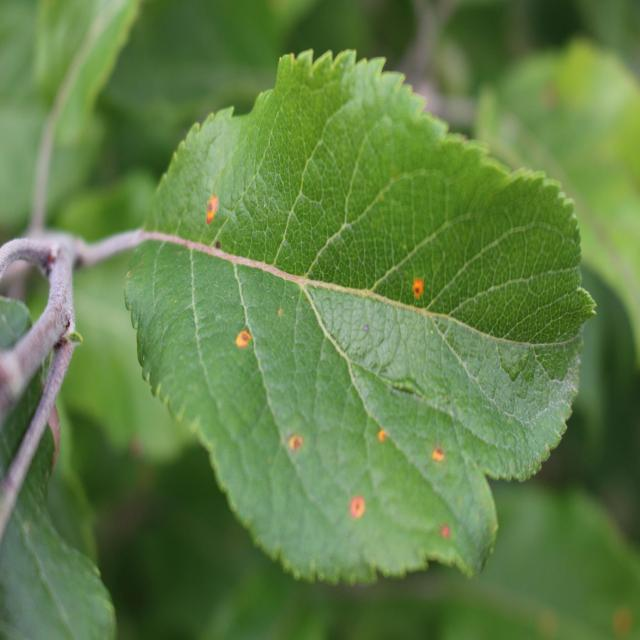Rust: (273, 419, 320, 473), (396, 264, 437, 314), (198, 171, 222, 240), (234, 297, 256, 369), (427, 434, 454, 482), (345, 488, 372, 531), (432, 519, 461, 544), (369, 421, 392, 450)
